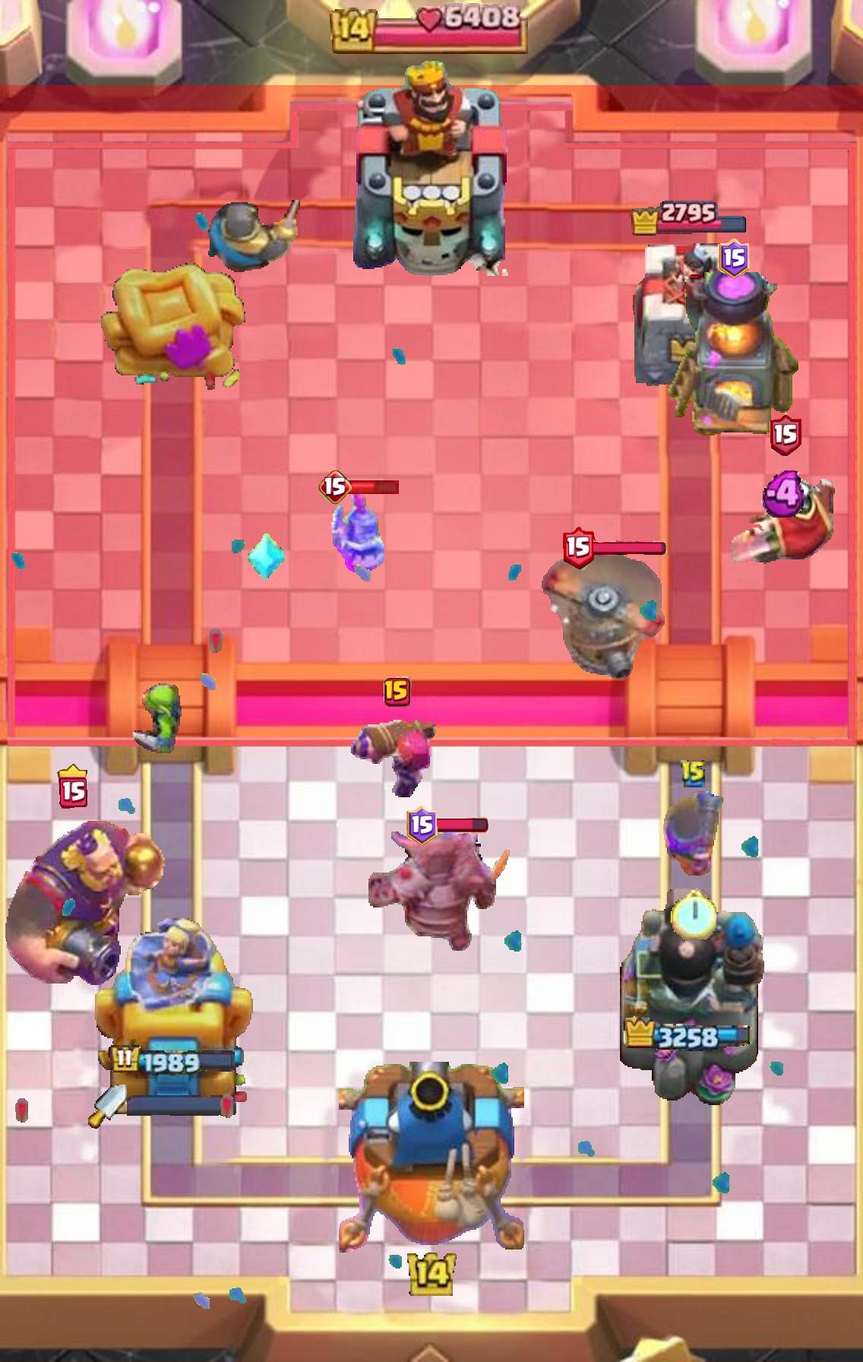bar: (761, 470, 810, 518)
bar-level: (663, 790, 724, 876)
